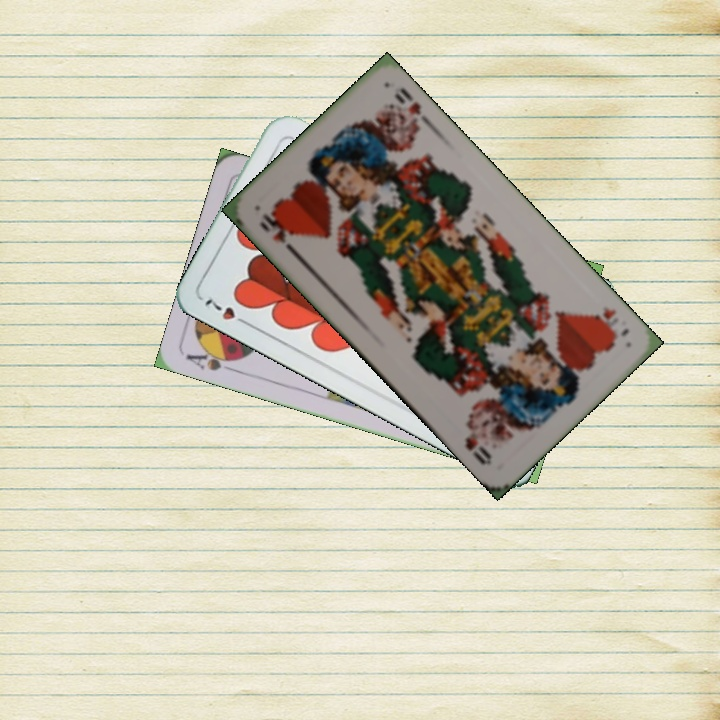H7: (200, 293, 253, 329)
HO: (255, 209, 299, 258), (588, 302, 632, 342)
SA: (182, 344, 243, 375)
